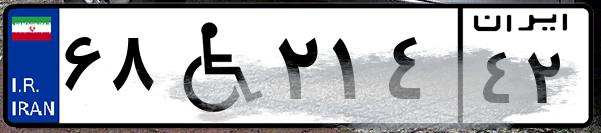1: (330, 28, 385, 110)
2: (270, 28, 330, 110), (525, 38, 570, 115)
4: (385, 28, 445, 110), (475, 38, 525, 113)
6: (57, 26, 110, 100)
8: (110, 28, 158, 98)
ژ (معلولین و جانبازان): (158, 12, 270, 120)
